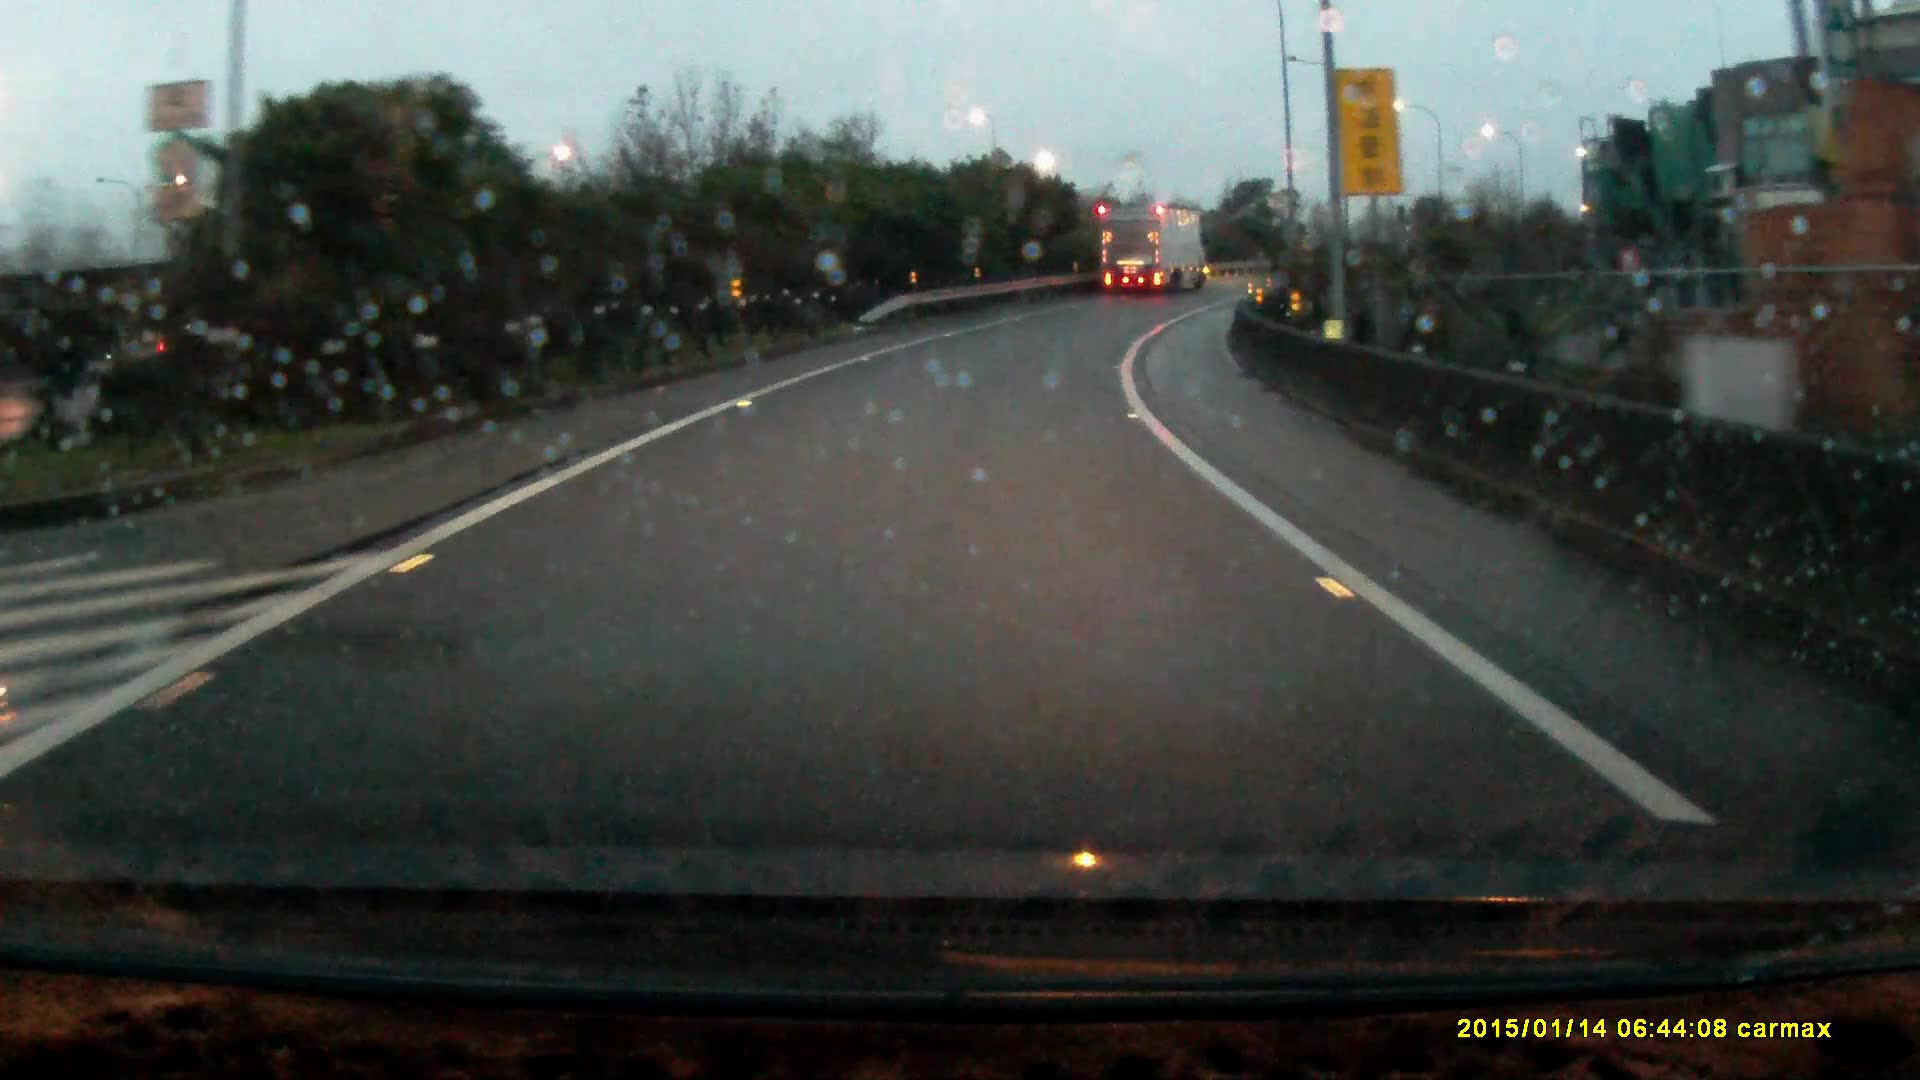vehicle: (1097, 202, 1208, 295)
